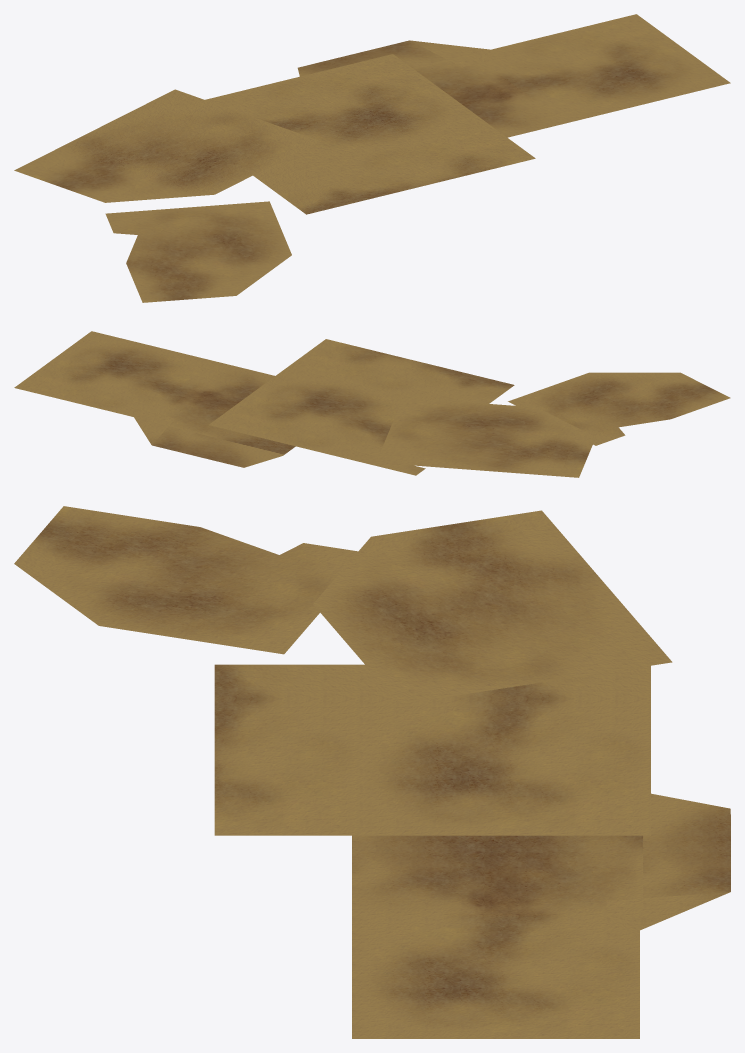
File: Southern Desert_1F_all.FBX
3 renders of one model, top to bottom at view 1: azimuth 30°, elevation 25°; view 2: azimuth 150°, elevation 25°; view 3: azimuth 270°, elevation 25°, orthographic. The views are drawn at different scales.
Visible parts, largest first — view 1: Southern Desert_1F_03, Southern Desert_1F_04, Southern Desert_1F_02, Southern Desert_1F_01; view 2: Southern Desert_1F_03, Southern Desert_1F_04, Southern Desert_1F_02, Southern Desert_1F_01; view 3: Southern Desert_1F_03, Southern Desert_1F_04, Southern Desert_1F_02, Southern Desert_1F_01.
Boxes of the visible parts, x1,y1,x2,y2 form: Southern Desert_1F_03: (205,54,535,214); Southern Desert_1F_04: (297,14,730,137); Southern Desert_1F_02: (14,89,320,202); Southern Desert_1F_01: (105,201,291,302); Southern Desert_1F_03: (209,339,514,475); Southern Desert_1F_04: (14,331,295,467); Southern Desert_1F_02: (376,397,595,477); Southern Desert_1F_01: (508,372,730,445); Southern Desert_1F_03: (214,664,650,835); Southern Desert_1F_04: (352,793,730,1038); Southern Desert_1F_02: (313,510,672,704); Southern Desert_1F_01: (14,506,357,654).
Size of the model in its own units: 66.17 by 2.49 by 39.44.
